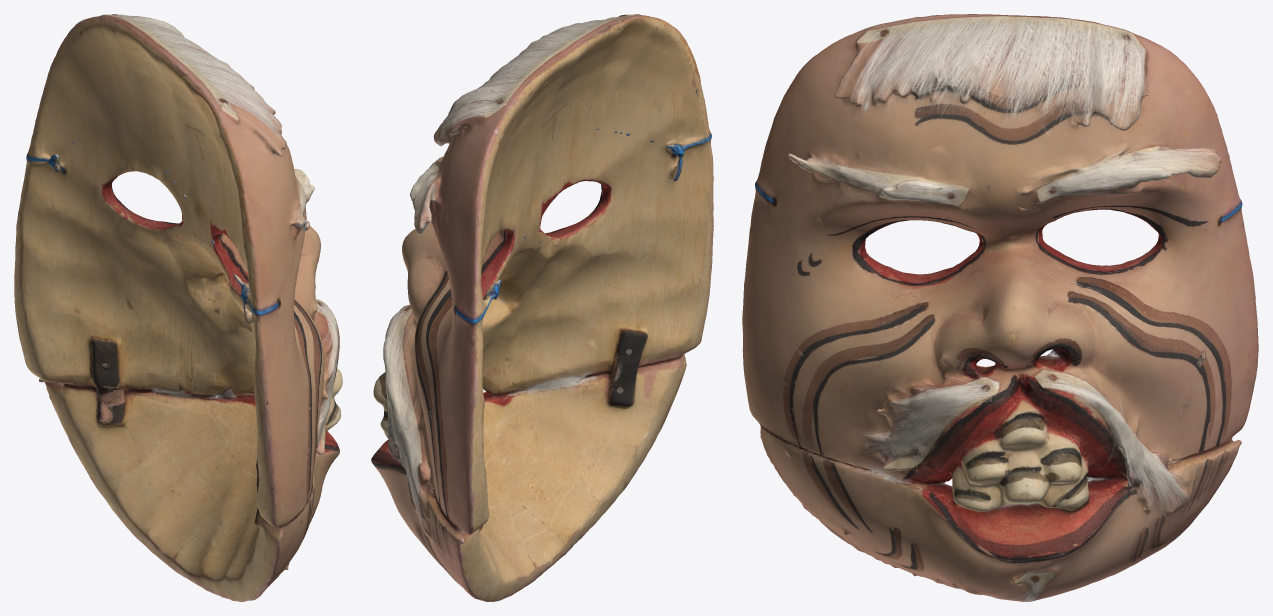
The model's file is Bambodresan.glb.
3 renders of one model, left to right at view 1: azimuth 30°, elevation 25°; view 2: azimuth 150°, elevation 25°; view 3: azimuth 270°, elevation 25°, orthographic. The views are drawn at different scales.
Parts seen in each view (by area): view 1: Model; view 2: Model; view 3: Model.
Part boxes in pixels (left/top/right/bottom): Model: left=14, top=14, right=342, bottom=601; Model: left=371, top=14, right=713, bottom=601; Model: left=742, top=14, right=1258, bottom=601.
Size of the model in its own units: 1.49 by 3.7 by 3.1.
Materials: 1 (1 with a texture image).
